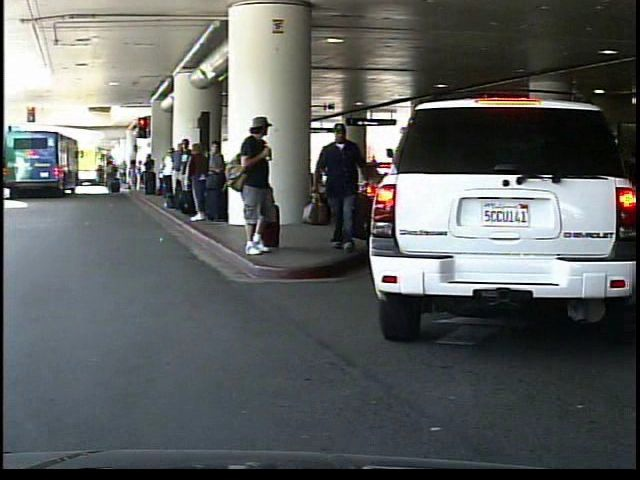person: (315, 119, 375, 255), (236, 116, 288, 257)
